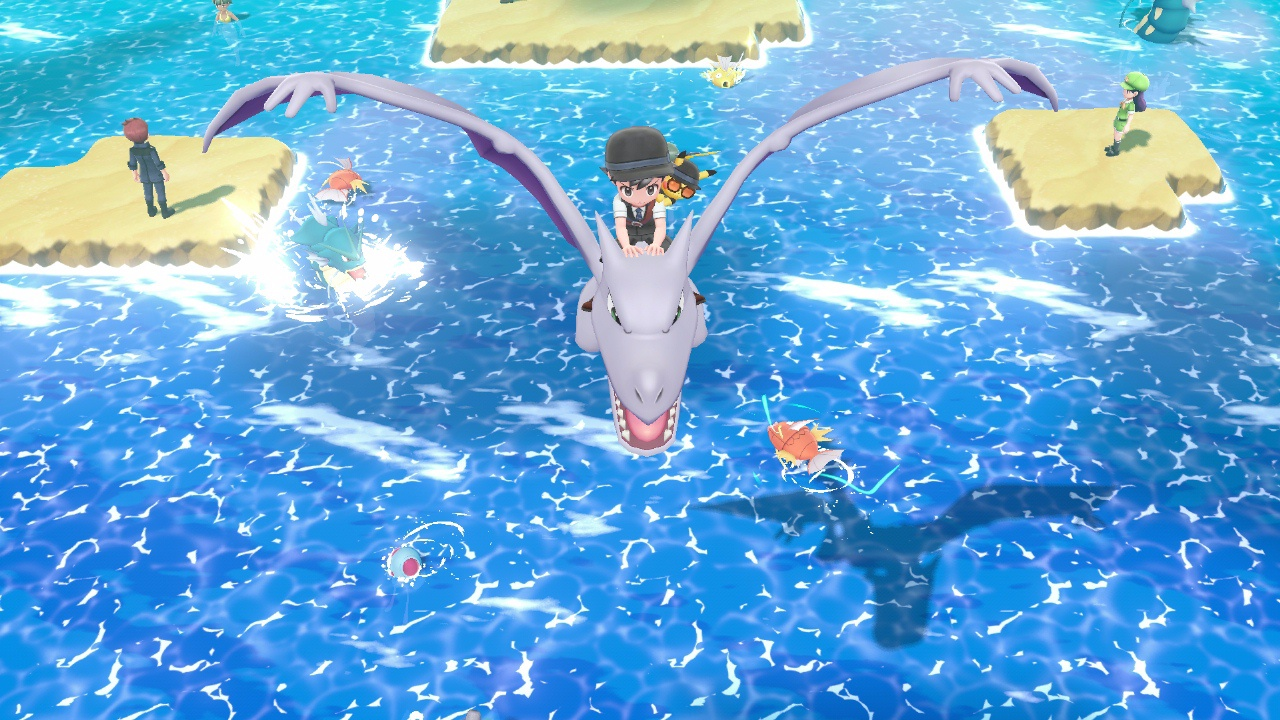Golden: (699, 56, 747, 90)
